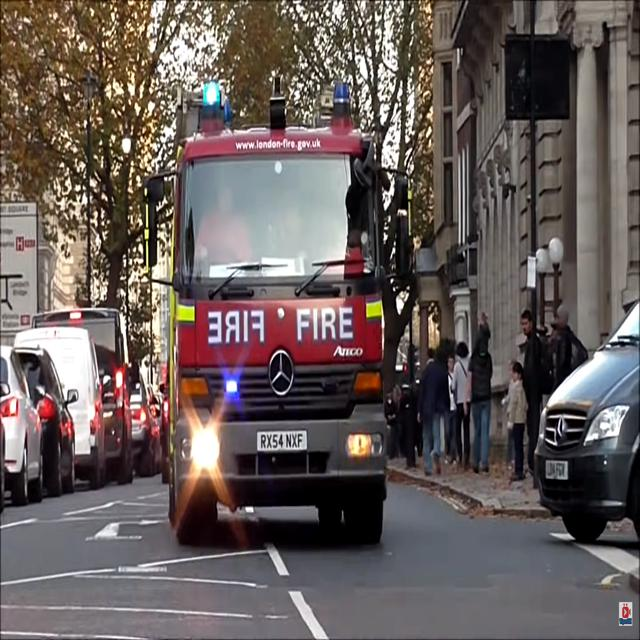emergency-vehicles: (156, 62, 407, 549)
